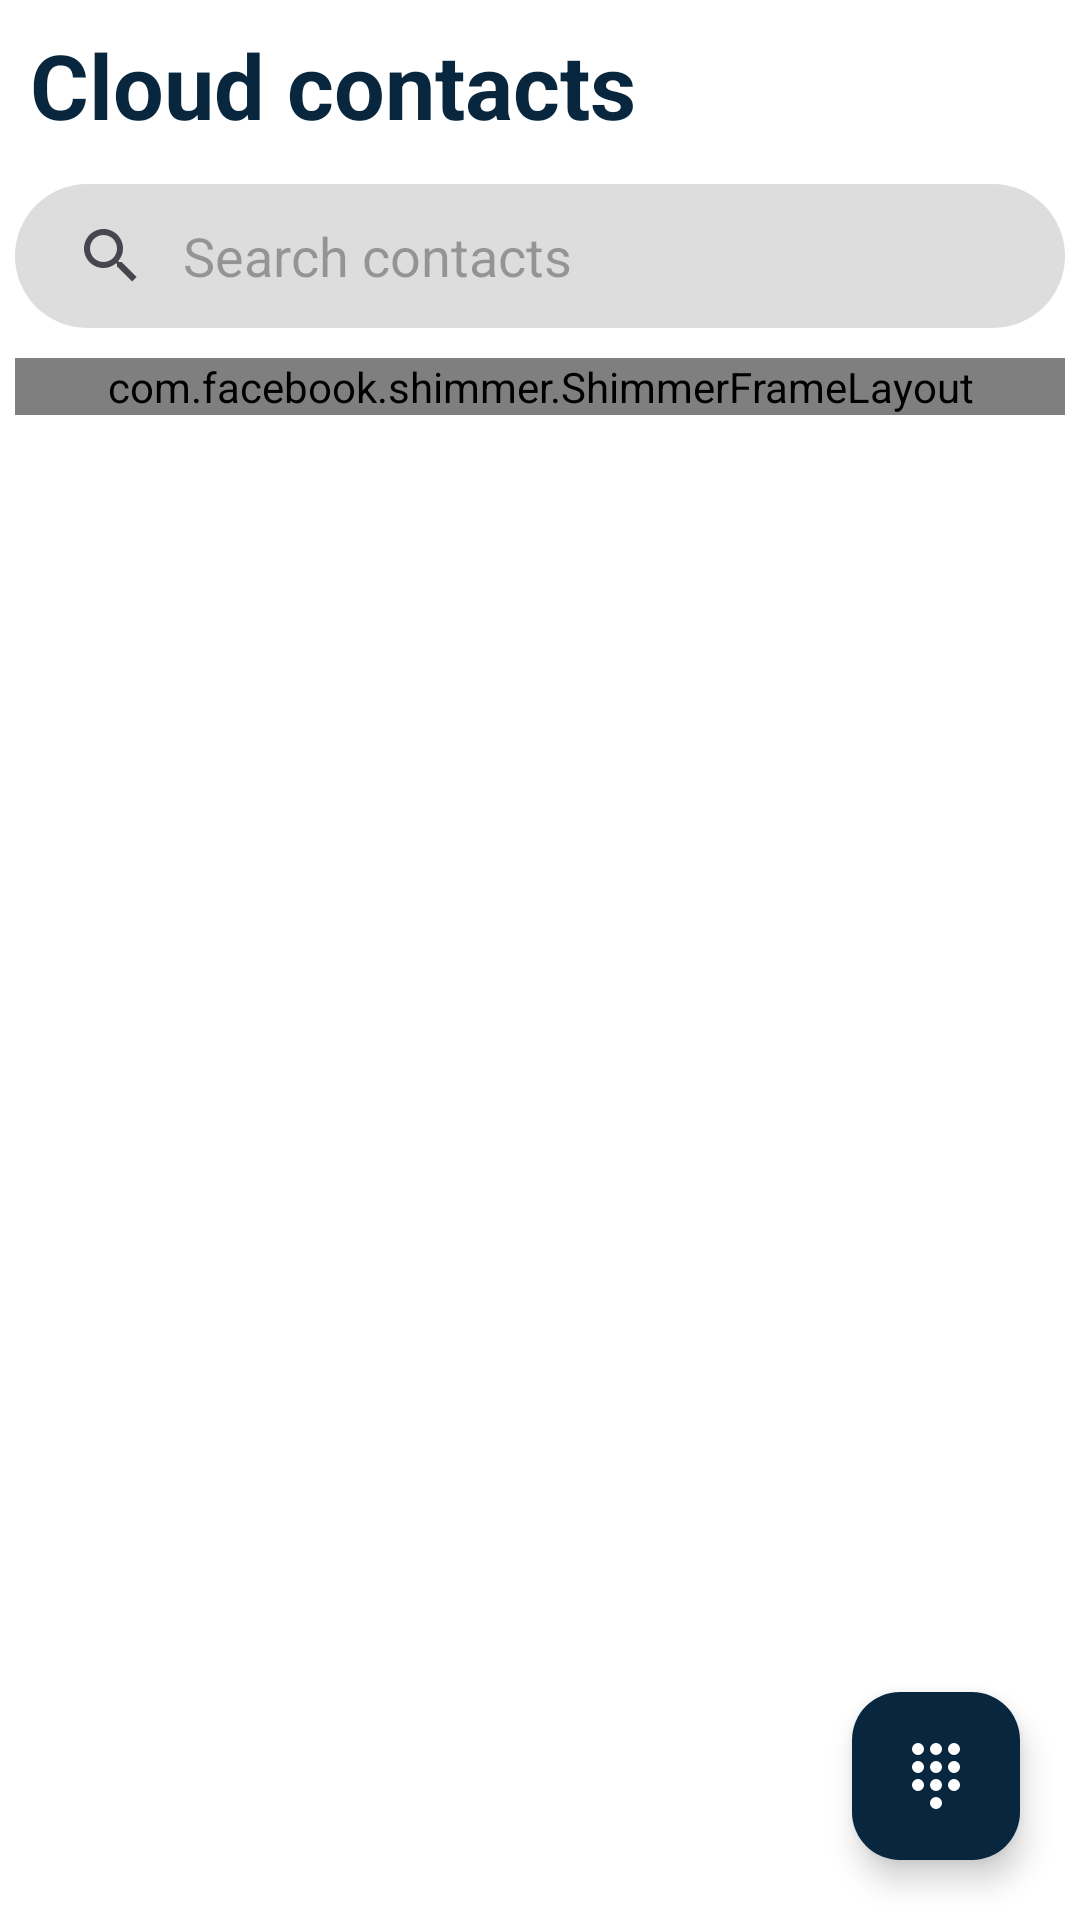

Screen size 1080 × 1920. Icon name, then its box in pixels as [x1,y1,x2,y2]:
Open dial pad: [852,1692,1020,1860]
